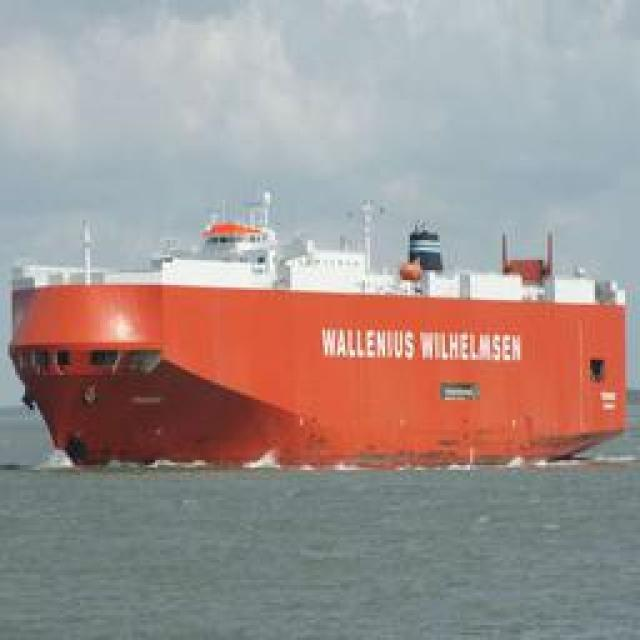CIV_Ship: (12, 198, 640, 462)
